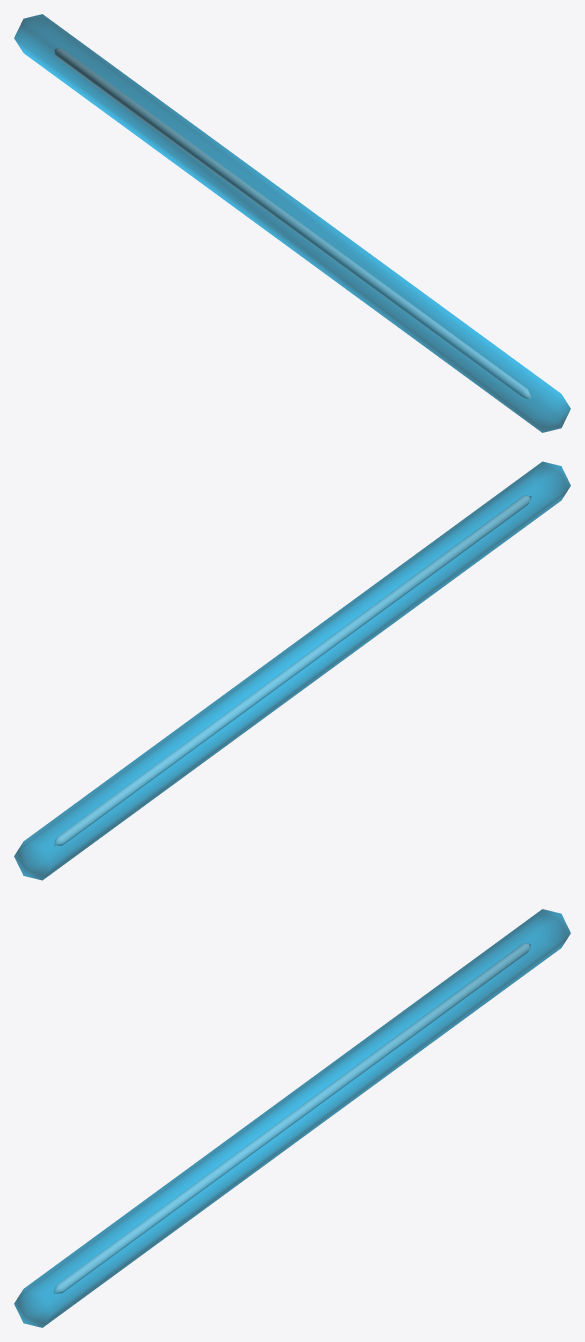
The model's file is light_blue_laser_model.fbx.
3 views of the same model, one above another, from view 1: azimuth 30°, elevation 25°; view 2: azimuth 150°, elevation 25°; view 3: azimuth 330°, elevation 25° (orthographic).
Parts seen in each view (by area): view 1: glow, bolt; view 2: glow, bolt; view 3: glow, bolt.
Part boxes in pixels (left/top/right/bottom): glow: left=14, top=14, right=570, bottom=432; bolt: left=54, top=48, right=531, bottom=398; glow: left=14, top=461, right=570, bottom=880; bolt: left=54, top=495, right=531, bottom=845; glow: left=14, top=909, right=570, bottom=1327; bolt: left=53, top=943, right=530, bottom=1293.
Bounding box in the file's own units: 3.15 × 2.73 × 76.43.
